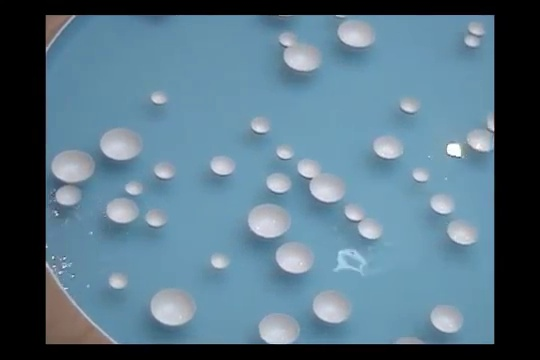bowl: (149, 286, 200, 328), (245, 202, 296, 239), (49, 148, 97, 184), (273, 240, 319, 277), (98, 125, 144, 161), (256, 309, 304, 343), (312, 289, 351, 325), (428, 303, 469, 334), (282, 44, 323, 73), (309, 171, 347, 202), (336, 19, 376, 48), (371, 132, 407, 161), (446, 218, 483, 246), (105, 197, 141, 224), (466, 127, 495, 156), (54, 183, 85, 208), (429, 190, 457, 216), (210, 154, 237, 178), (266, 171, 293, 195), (144, 207, 172, 230), (295, 159, 323, 179), (358, 217, 383, 239), (152, 161, 179, 181), (399, 94, 423, 116), (249, 114, 273, 135), (209, 250, 232, 271), (107, 269, 129, 290), (344, 202, 365, 222), (412, 165, 434, 183), (277, 30, 300, 47), (274, 143, 297, 160), (390, 335, 428, 345), (124, 179, 144, 198), (148, 90, 170, 105), (468, 20, 487, 37), (463, 34, 482, 49), (486, 111, 495, 133)
